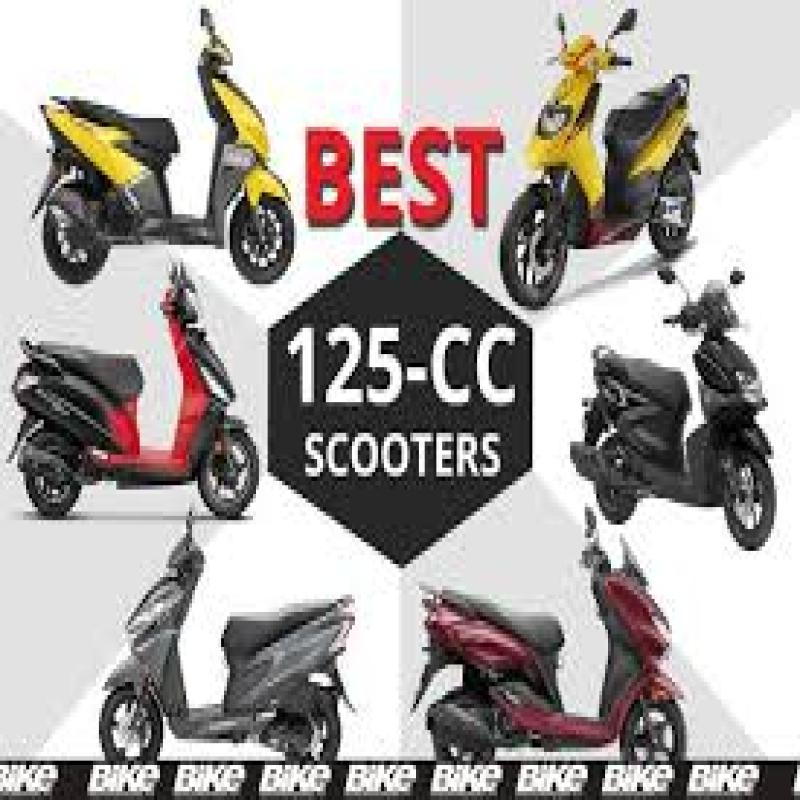bike: (24, 8, 302, 292), (99, 493, 374, 770), (7, 238, 257, 520), (406, 526, 700, 758), (567, 253, 784, 553), (495, 0, 705, 290)
